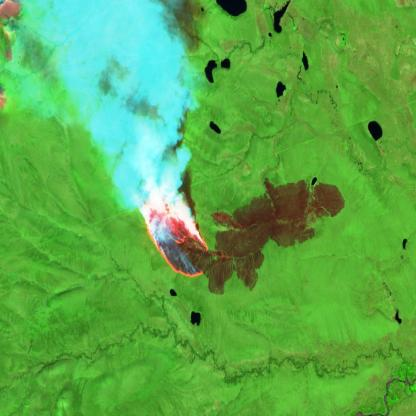fire: (137, 185, 208, 289)
